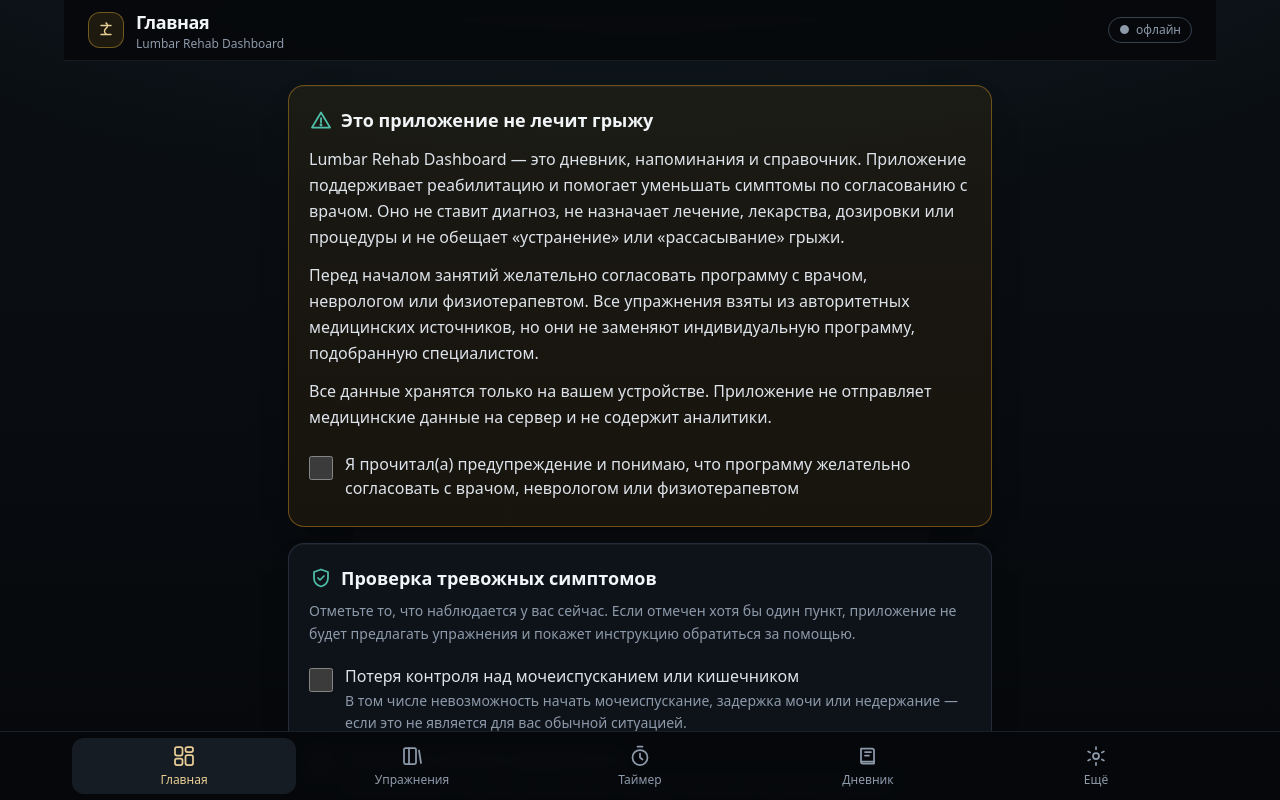
Test: safety interlocks › blocks starting until the warning is acknowledged
Click the checkbox labelled "Я прочитал(а) предупреждение" at (321, 468), box [309,456,333,480]
(page scrolled)
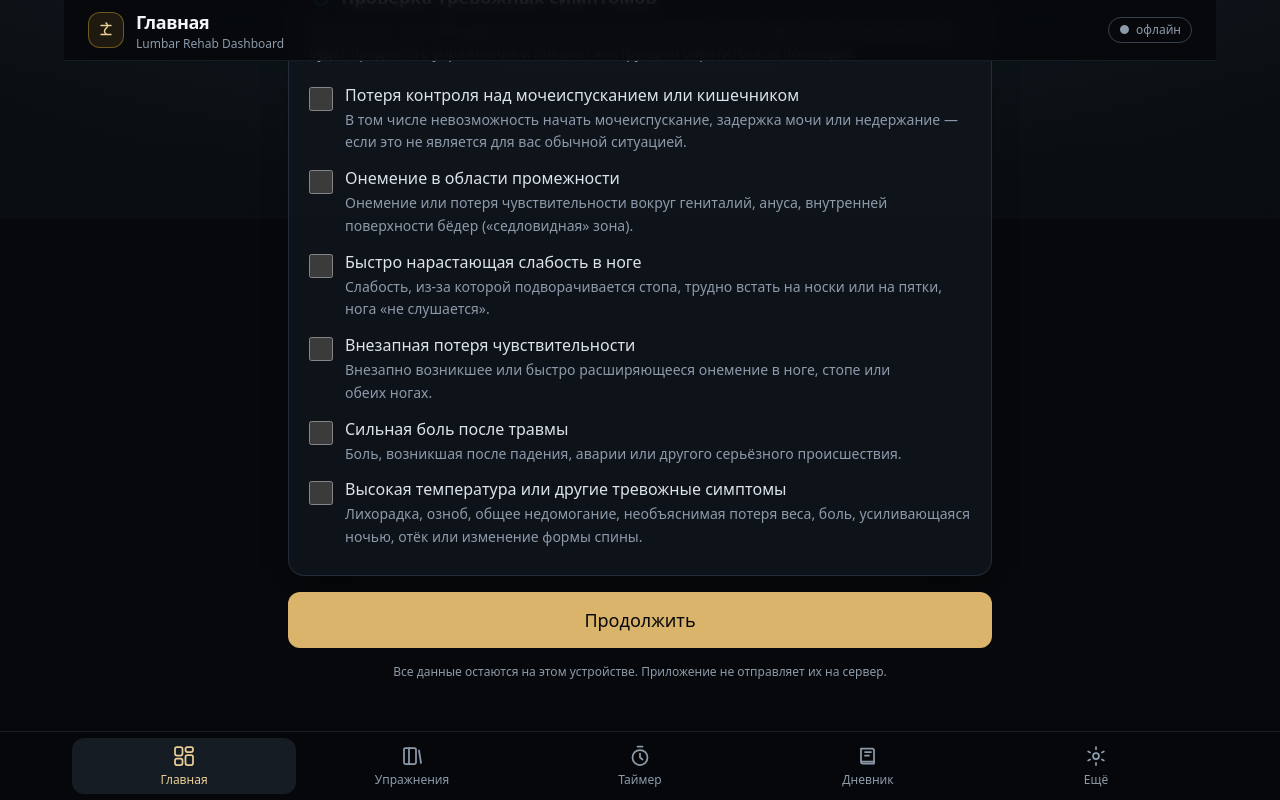
expect the button "Продолжить" is enabled: met, box [288,592,992,648]
